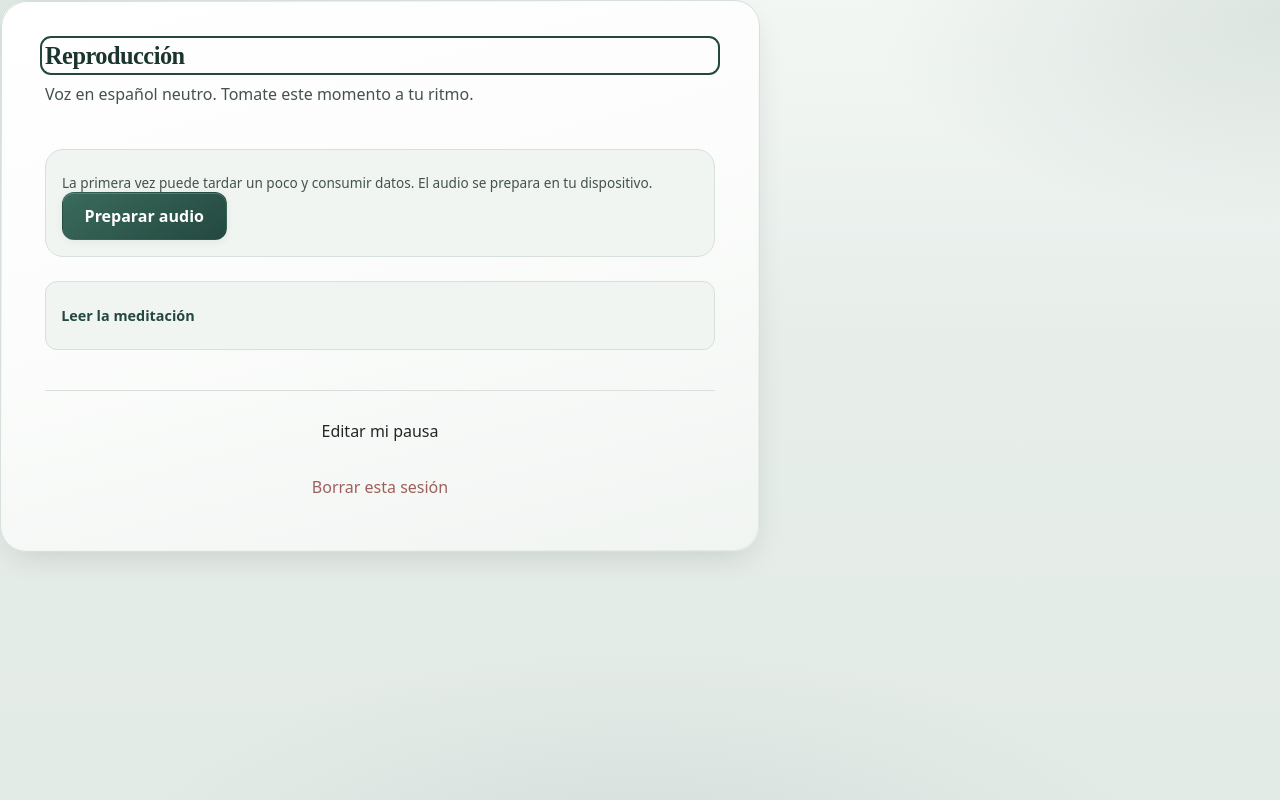
Test case: PlaybackStep — voz sencilla y consentimiento › never offers the Argentine remote endpoint as a neutral voice on failure
What coordinates should you click on to do the following:
click the button "Preparar audio"
I would click on:
 (144, 216)
Its box is [62,192,227,240].
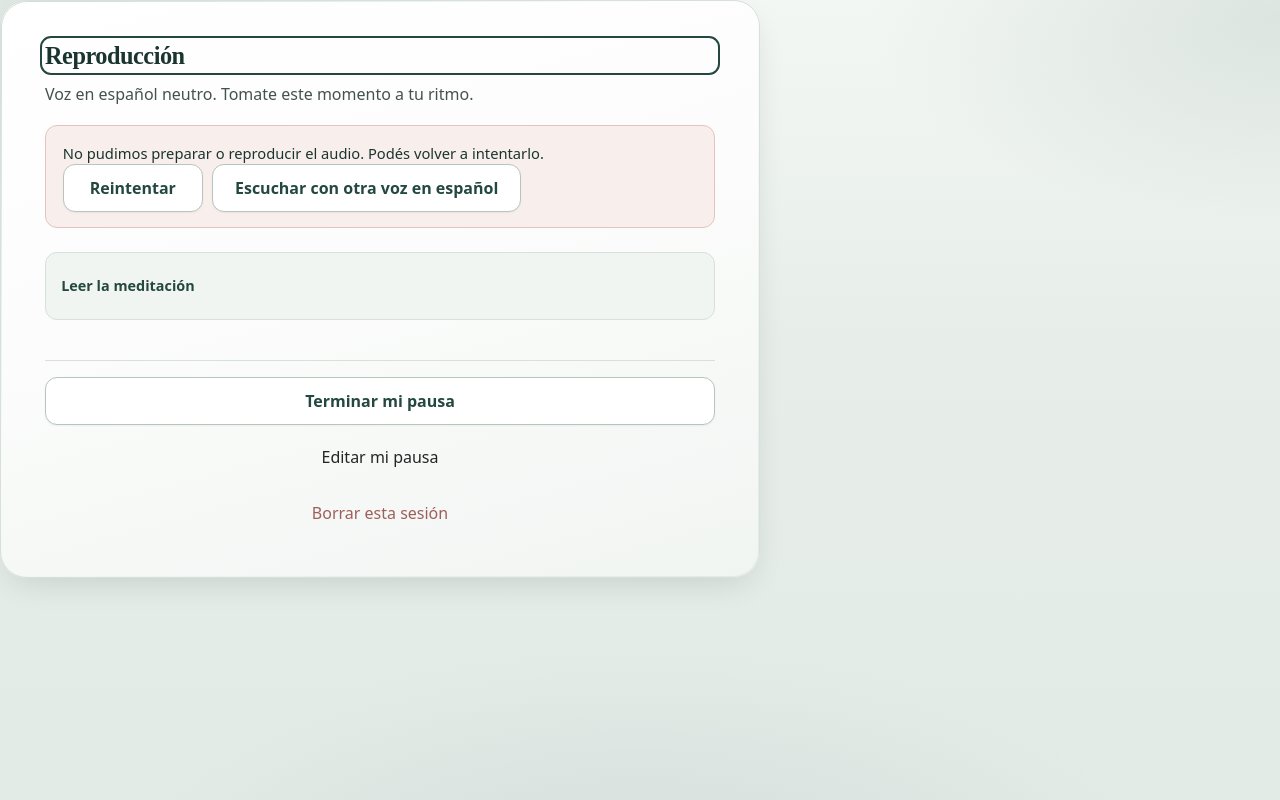
Check: the message is shown, box [45,125,715,228]
What coordinates should you click on to do the following:
click the button "Escuchar con otra voz en español"
I would click on:
 (367, 188)
Its box is [212,164,521,212].
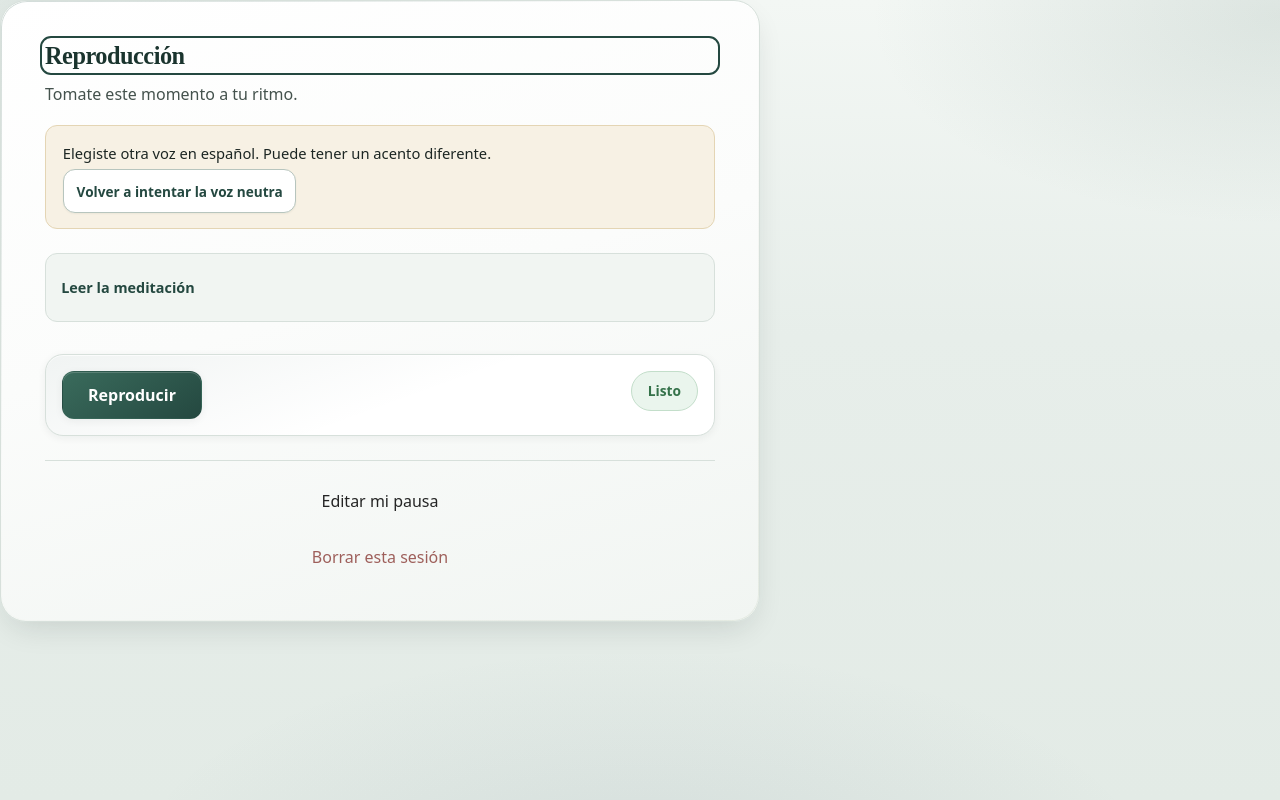
Check: the text "Elegiste otra voz" is shown, box [63,142,491,162]
Check: the button "Volver a intentar la voz neutra" is shown, box [63,169,296,213]
